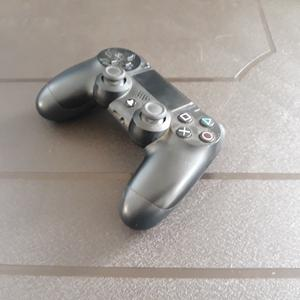controller: (35, 47, 225, 231)
